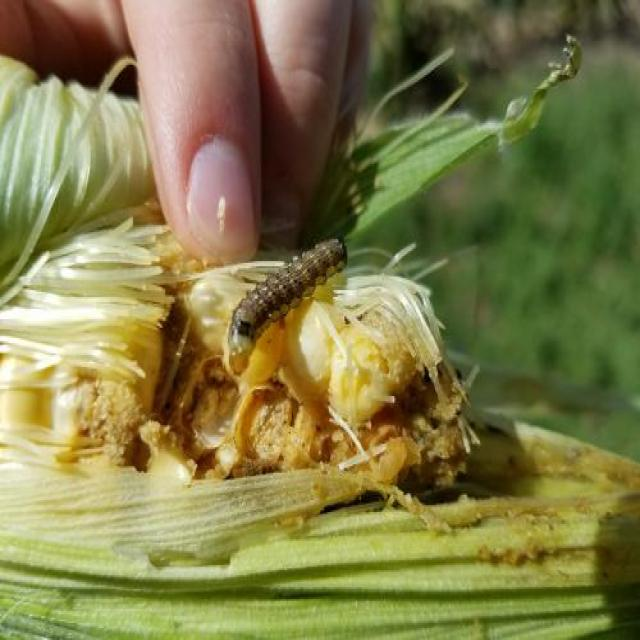worm: (227, 235, 348, 356)
